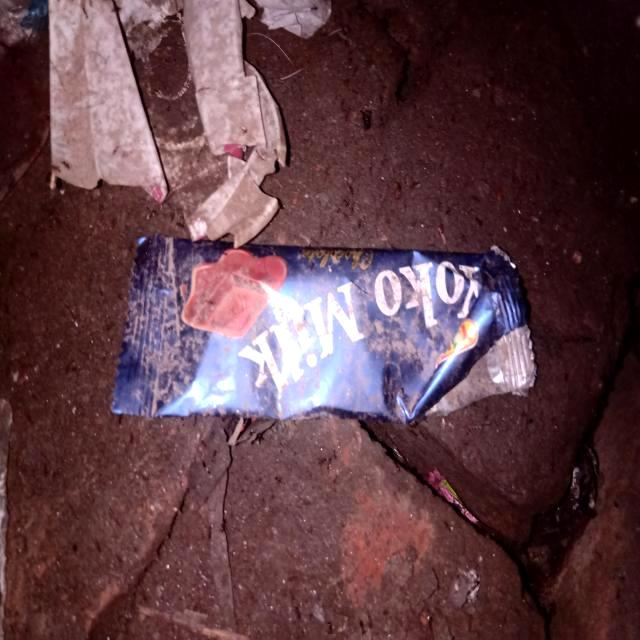packet: (126, 232, 523, 421)
